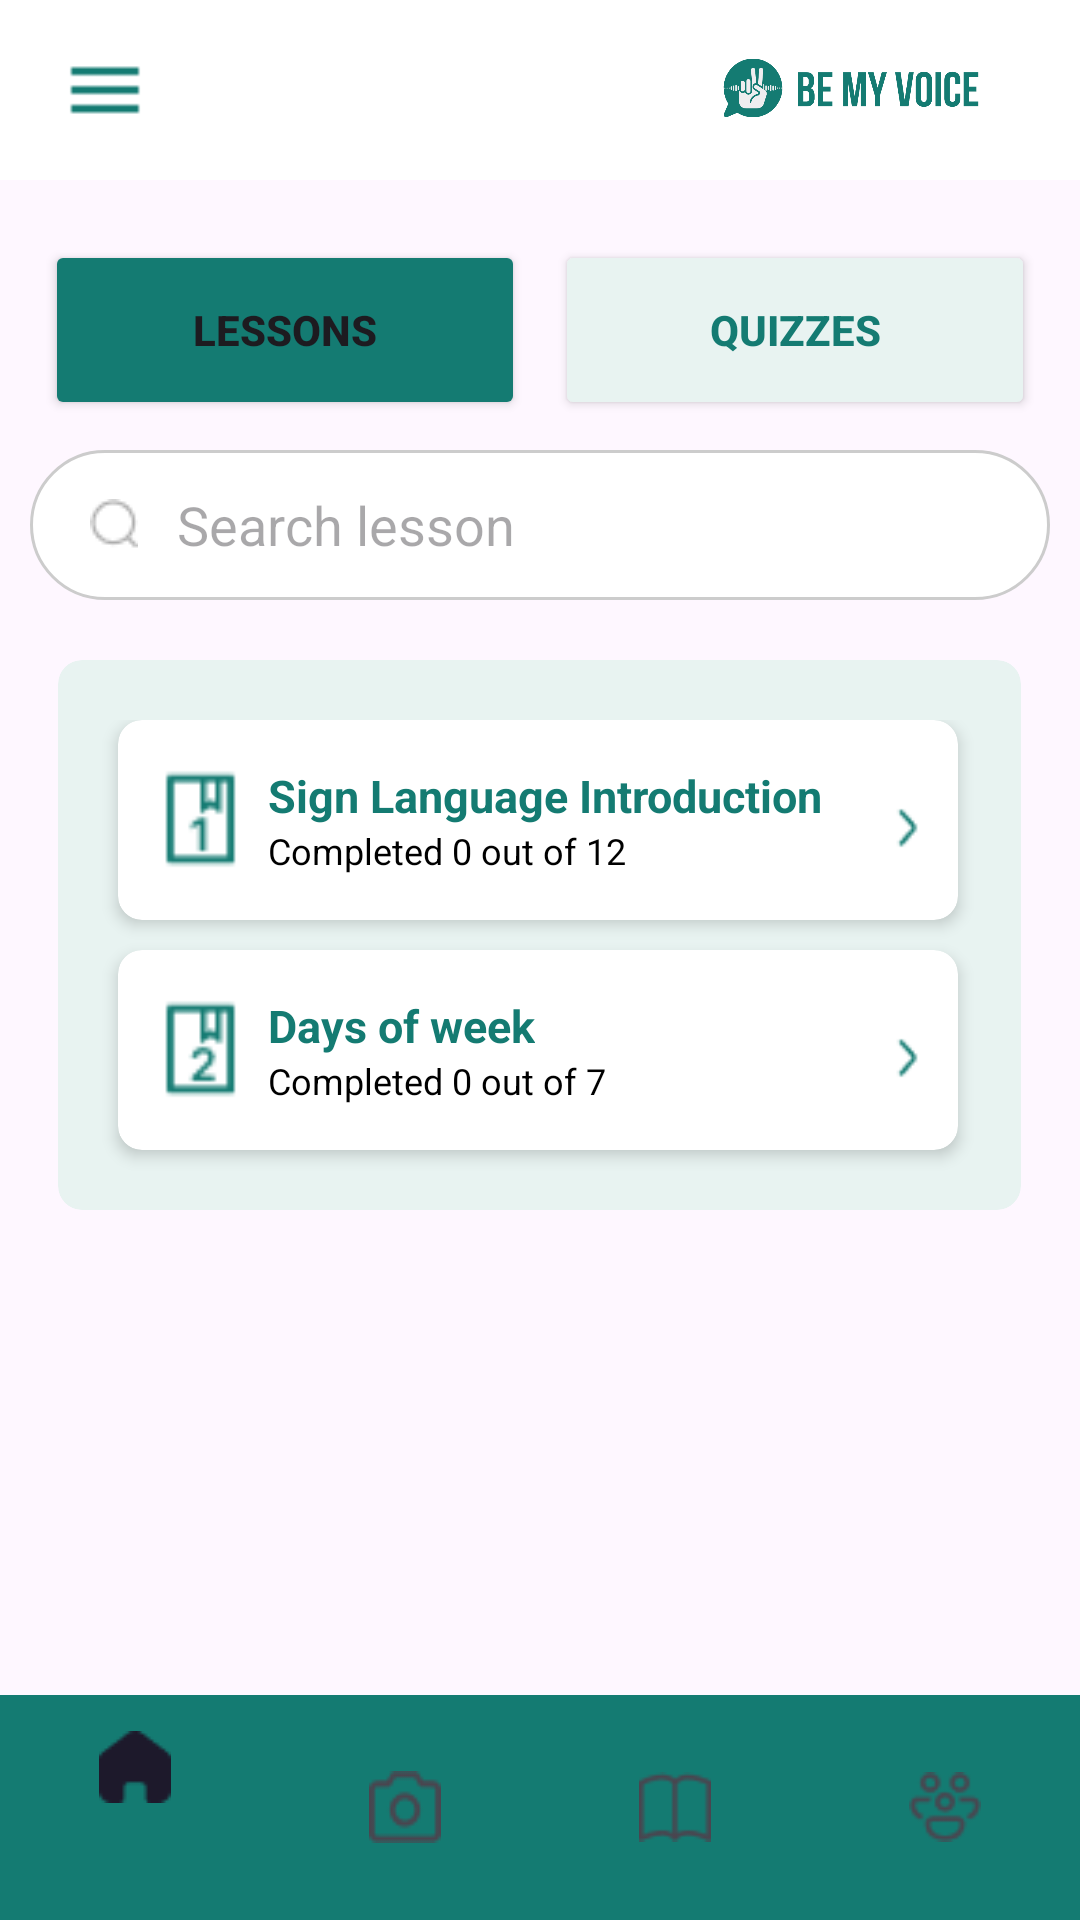

Icons on this 1080x1920 Android screen, each with its box as (left=x1, top=y1, right=x2, bottom=y2):
arrow right: (left=898, top=809, right=918, bottom=847), (left=898, top=1039, right=918, bottom=1077)
left drawer: (left=70, top=66, right=140, bottom=114)
